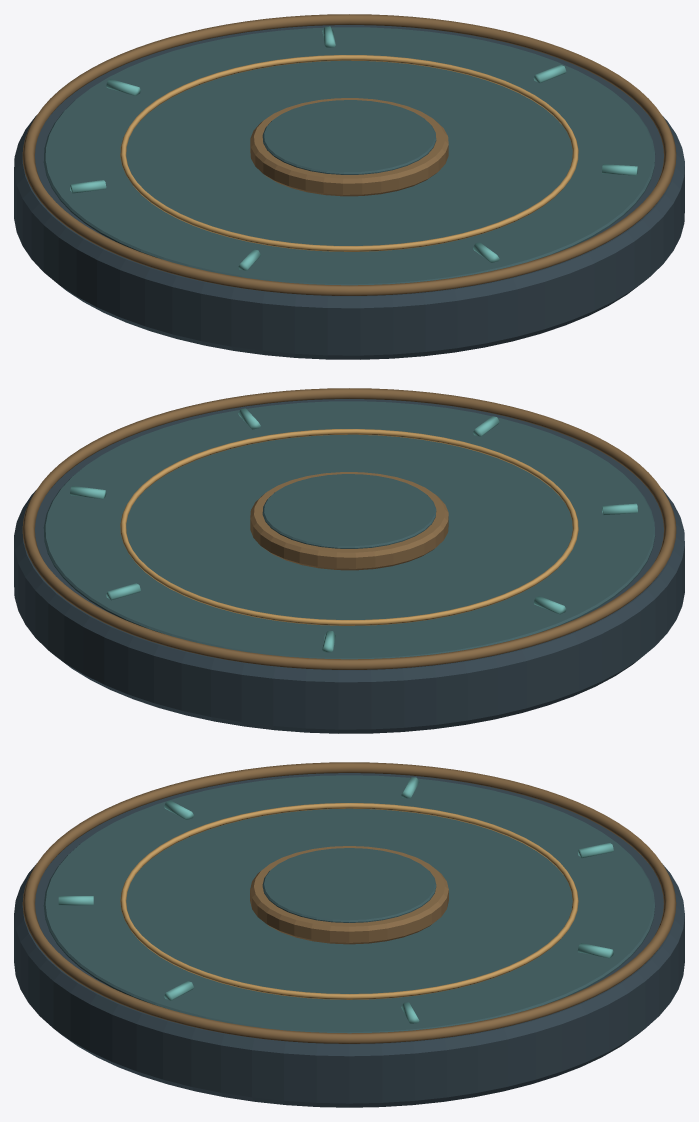
Rendered from far-landing.glb.
3 views of the same model, one above another, from view 1: azimuth 30°, elevation 25°; view 2: azimuth 150°, elevation 25°; view 3: azimuth 270°, elevation 25° (orthographic).
Visible parts, largest first — view 1: FarLanding | Slate | inset, FarLanding | Basalt | blue, FarLanding | Brass | muted, FarLanding | Brass | bright, FarLanding | Enamel | tide; view 2: FarLanding | Slate | inset, FarLanding | Basalt | blue, FarLanding | Brass | muted, FarLanding | Brass | bright, FarLanding | Enamel | tide; view 3: FarLanding | Slate | inset, FarLanding | Basalt | blue, FarLanding | Brass | muted, FarLanding | Brass | bright, FarLanding | Enamel | tide.
Boxes of the visible parts, x1,y1,x2,y2 form: FarLanding | Slate | inset: (43,27,655,285); FarLanding | Basalt | blue: (14,25,684,359); FarLanding | Brass | muted: (22,14,676,295); FarLanding | Brass | bright: (120,55,578,251); FarLanding | Enamel | tide: (70,26,637,270); FarLanding | Slate | inset: (43,401,655,659); FarLanding | Basalt | blue: (14,399,684,733); FarLanding | Brass | muted: (22,388,676,669); FarLanding | Brass | bright: (120,429,578,625); FarLanding | Enamel | tide: (70,408,637,652); FarLanding | Slate | inset: (43,775,655,1033); FarLanding | Basalt | blue: (14,773,684,1107); FarLanding | Brass | muted: (22,762,676,1043); FarLanding | Brass | bright: (120,803,578,999); FarLanding | Enamel | tide: (58,777,613,1023).
Bounding box in the file's own units: 2.7 × 0.38 × 2.7.
